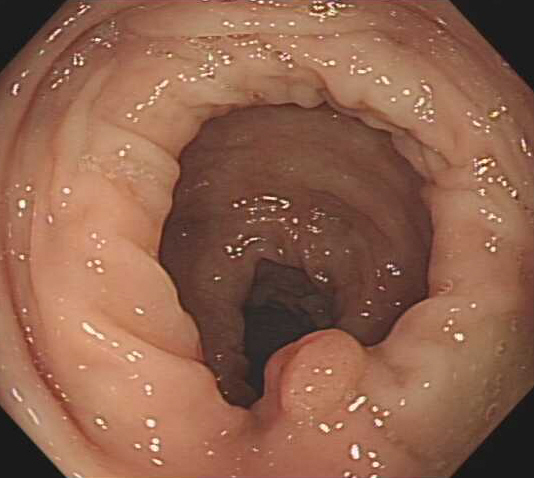adenoma: (263, 327, 367, 426)
